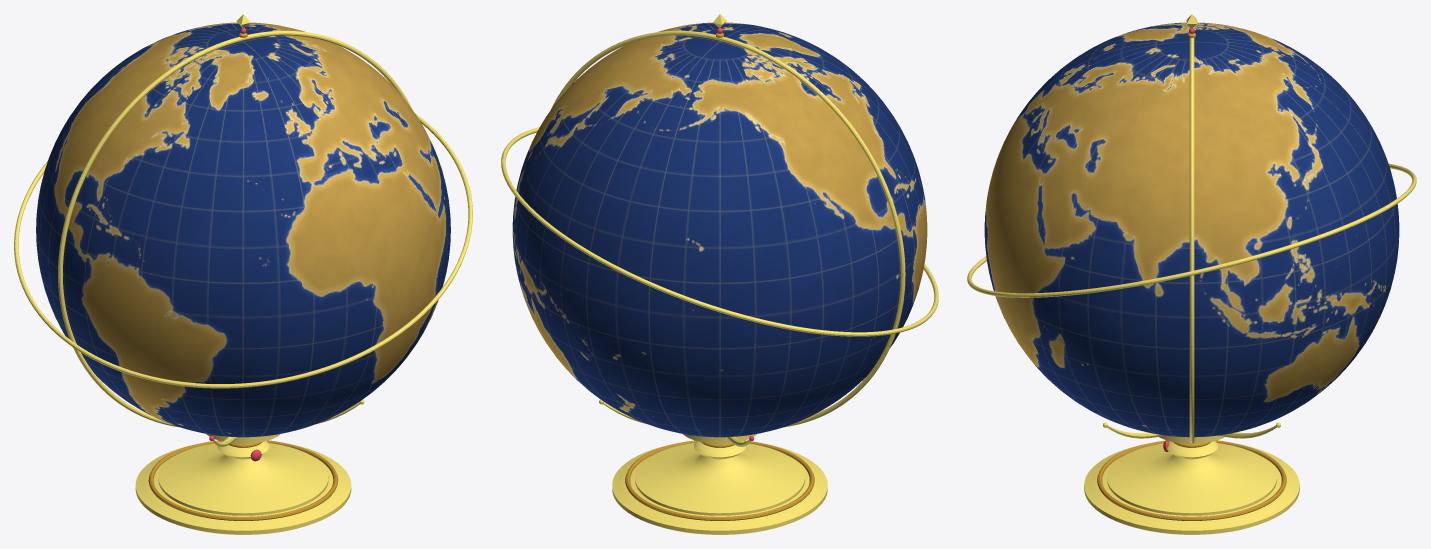
Rendered from 2026-11-27_city-globe-fantasy.glb.
3 views of the same model, side by side, from view 1: azimuth 30°, elevation 25°; view 2: azimuth 150°, elevation 25°; view 3: azimuth 270°, elevation 25° (orthographic).
Parts seen in each view (by area): view 1: Globe, Stand; view 2: Globe, Stand; view 3: Globe, Stand.
Part boxes in pixels (x1,y1,x2,y2): Globe: (36,22,450,437); Stand: (14,14,472,534); Globe: (512,22,927,437); Stand: (501,14,938,534); Globe: (984,22,1399,437); Stand: (967,14,1416,534).
Bounding box in the file's own units: 2.16 × 2.54 × 2.17.
Materials: 4 (1 with a texture image).
